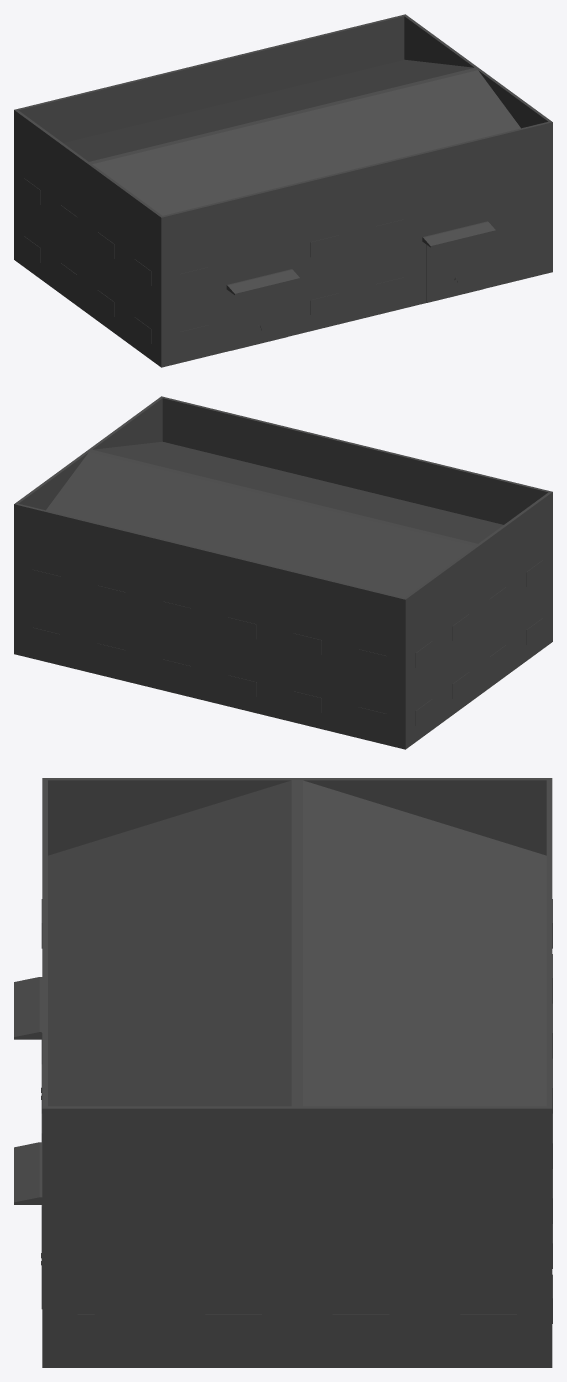
Rendered from Gaea1.glb.
3 views of the same model, one above another, from view 1: azimuth 30°, elevation 25°; view 2: azimuth 150°, elevation 25°; view 3: azimuth 270°, elevation 25° (orthographic). The views are drawn at different scales.
Visible parts, largest first — view 1: node_id6, node_id36, node_id17, node_id38, node_id19, node_id56, node_id53, node_id50, node_id44, node_id25, node_id47; view 2: node_id6, node_id95, node_id98, node_id86, node_id101, node_id89, node_id110, node_id116, node_id83, node_id107, node_id113, node_id92 (+1 smaller); view 3: node_id6, node_id38, node_id19, node_id71, node_id74, node_id62, node_id77, node_id65, node_id68, node_id80.
Part boxes in pixels (box(x1,y1,x2,y2)): node_id6: box(14, 14, 552, 367); node_id36: box(426, 235, 483, 302); node_id17: box(231, 282, 287, 350); node_id38: box(422, 221, 495, 247); node_id19: box(226, 269, 299, 295); node_id56: box(375, 219, 404, 240); node_id53: box(375, 277, 404, 298); node_id50: box(310, 293, 338, 314); node_id44: box(180, 325, 208, 346); node_id25: box(180, 267, 208, 288); node_id47: box(310, 235, 338, 257); node_id6: box(14, 396, 552, 749); node_id95: box(162, 601, 191, 622); node_id98: box(162, 659, 191, 680); node_id86: box(32, 569, 60, 591); node_id101: box(228, 675, 256, 696); node_id89: box(97, 643, 125, 665); node_id110: box(293, 633, 321, 654); node_id116: box(358, 707, 386, 728); node_id83: box(32, 627, 60, 649); node_id107: box(293, 691, 321, 712); node_id113: box(358, 649, 386, 670); node_id92: box(97, 585, 125, 607); node_id6: box(42, 778, 552, 1367); node_id38: box(14, 1142, 42, 1204); node_id19: box(14, 977, 42, 1039); node_id71: box(332, 1214, 389, 1239); node_id74: box(332, 1314, 389, 1339); node_id62: box(77, 1214, 134, 1239); node_id77: box(460, 1314, 516, 1339); node_id65: box(205, 1314, 261, 1339); node_id68: box(205, 1214, 261, 1239); node_id80: box(460, 1214, 516, 1239).
Size of the model in its own units: 0.512 by 0.1871 by 0.3523.
Materials: 45 (45 with a texture image).
